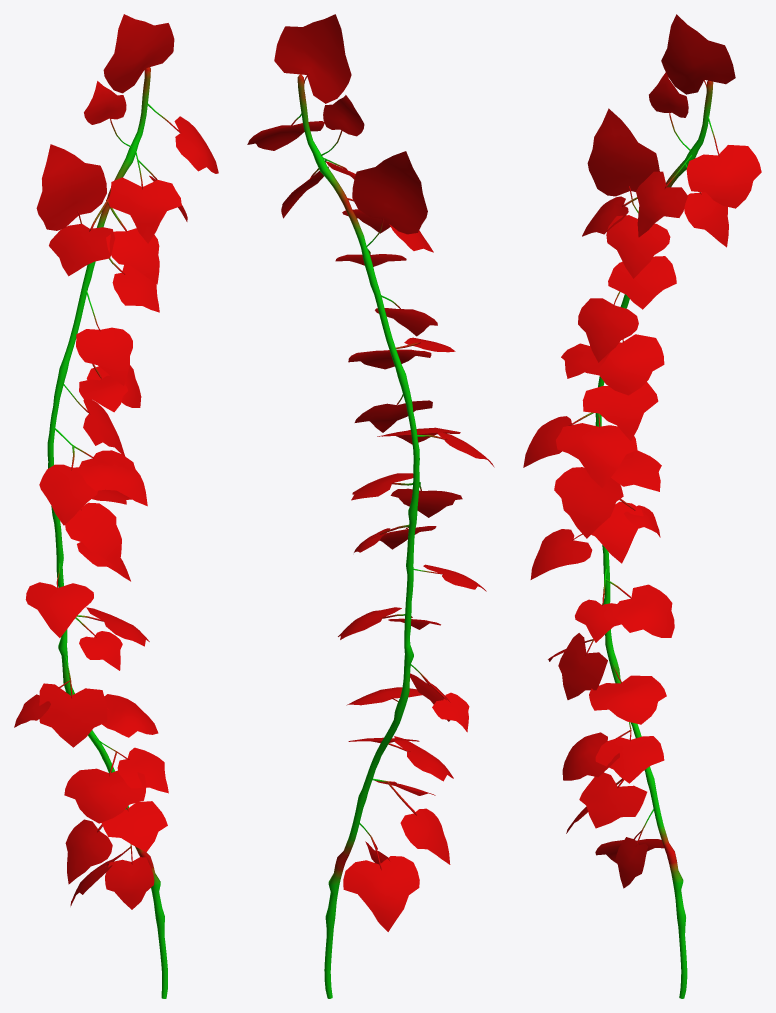
The model's file is Var12_LOD0.fbx.
3 renders of one model, left to right at view 1: azimuth 30°, elevation 25°; view 2: azimuth 150°, elevation 25°; view 3: azimuth 330°, elevation 25°, orthographic. The views are drawn at different scales.
Parts seen in each view (by area): view 1: _cckx_Var12_LOD0; view 2: _cckx_Var12_LOD0; view 3: _cckx_Var12_LOD0.
Part boxes in pixels (x1,y1,x2,y2): _cckx_Var12_LOD0: [14, 14, 218, 998]; _cckx_Var12_LOD0: [247, 14, 494, 998]; _cckx_Var12_LOD0: [523, 14, 761, 998].
Size of the model in its own units: 16.27 by 75.76 by 8.72.
